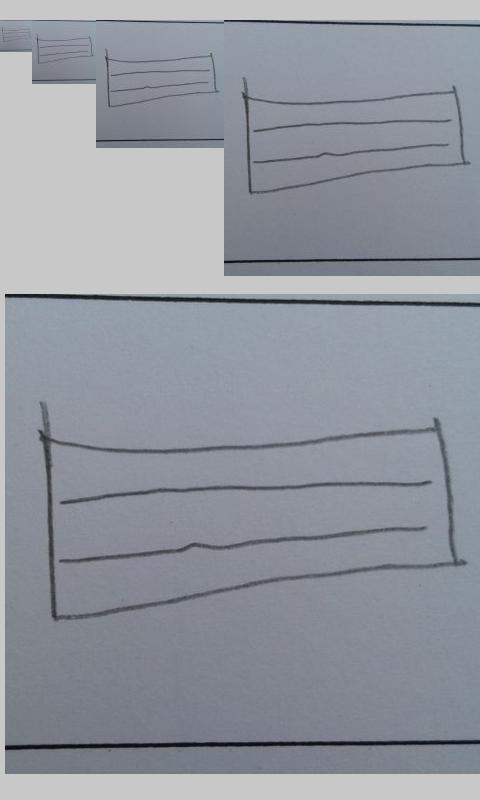list_view: (40, 422, 459, 624), (243, 88, 468, 195), (105, 54, 218, 108), (36, 37, 94, 65), (1, 28, 31, 43)
